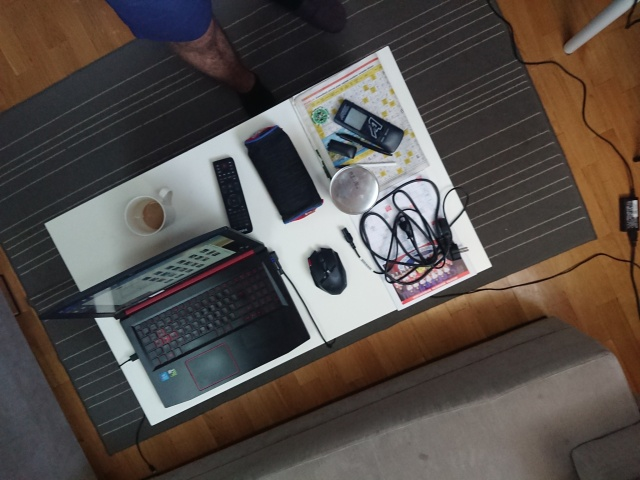Nescafe Classic 225g: (326, 162, 383, 217)
